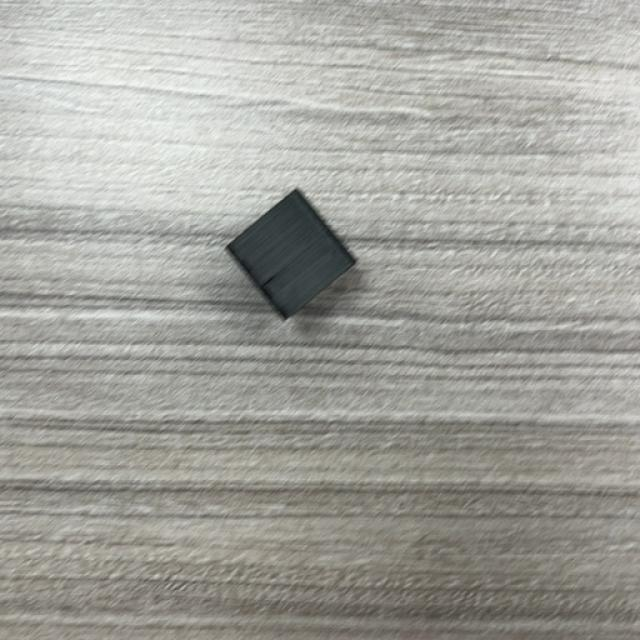Negro: (225, 190, 358, 321)
